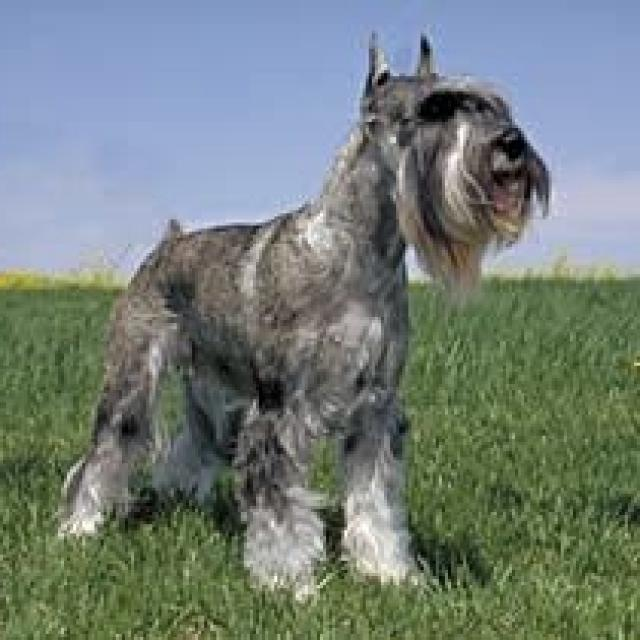standard_schnauzer: (55, 33, 561, 594)
